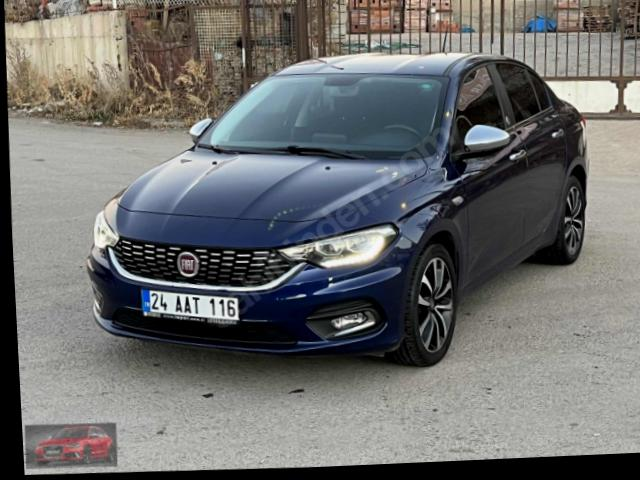plaka: (142, 290, 239, 323)
